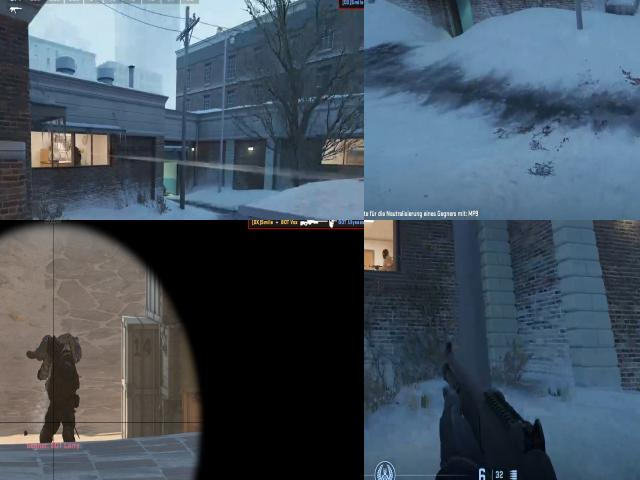CT: (42, 335, 78, 444), (74, 147, 82, 167)
CT-Head: (48, 337, 62, 356)
Dead: (27, 333, 84, 360)
T-Head: (380, 248, 392, 261)
